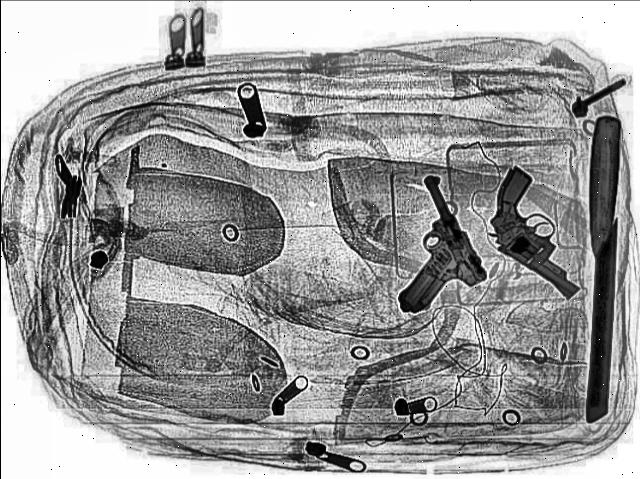Gun: (444, 166, 634, 294), (338, 174, 500, 312)
Knife: (580, 115, 618, 421)
